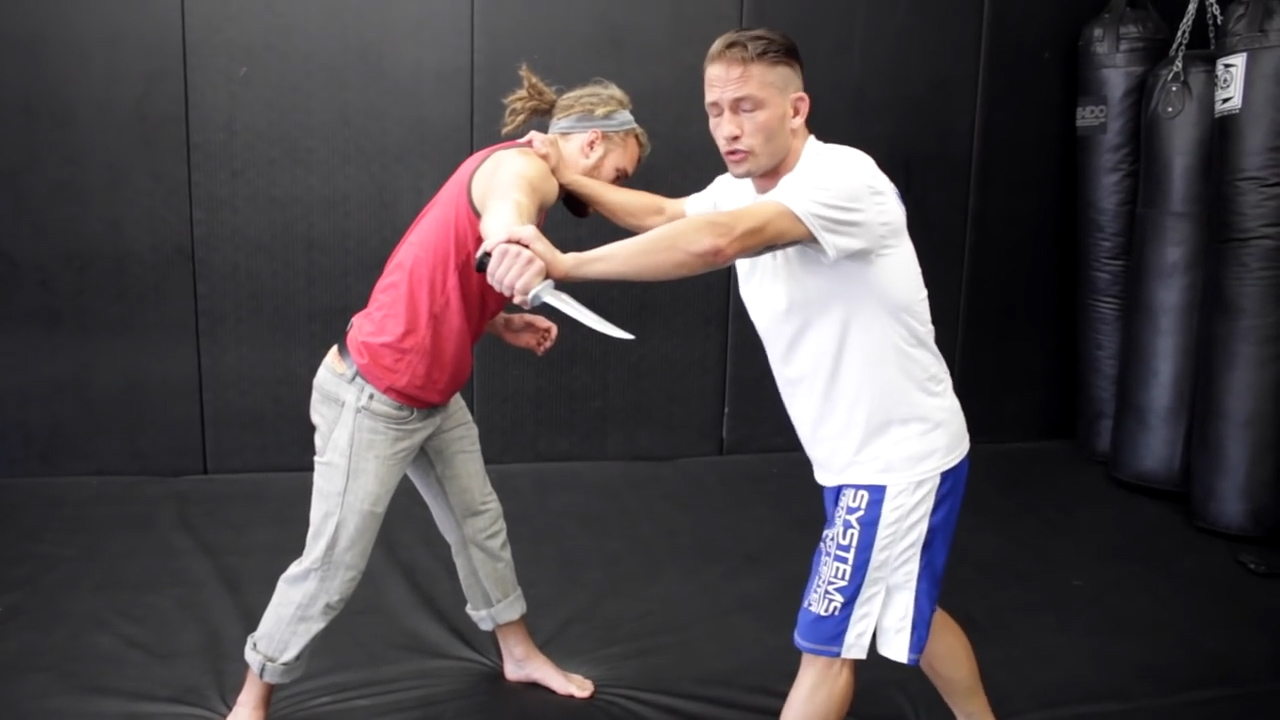knife: (464, 245, 646, 352)
